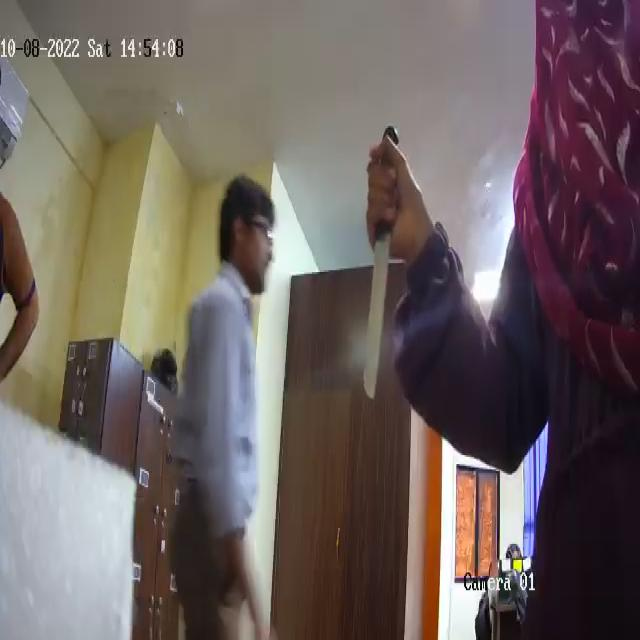Knife: (358, 110, 397, 406)
